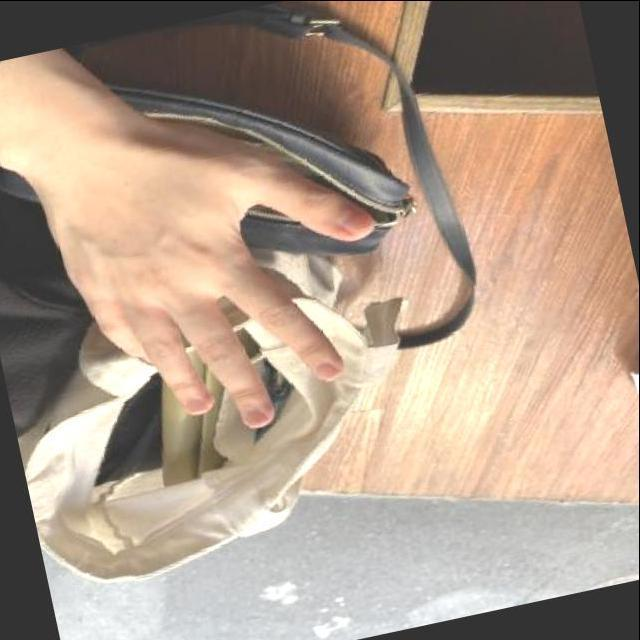hand: (3, 50, 439, 472)
